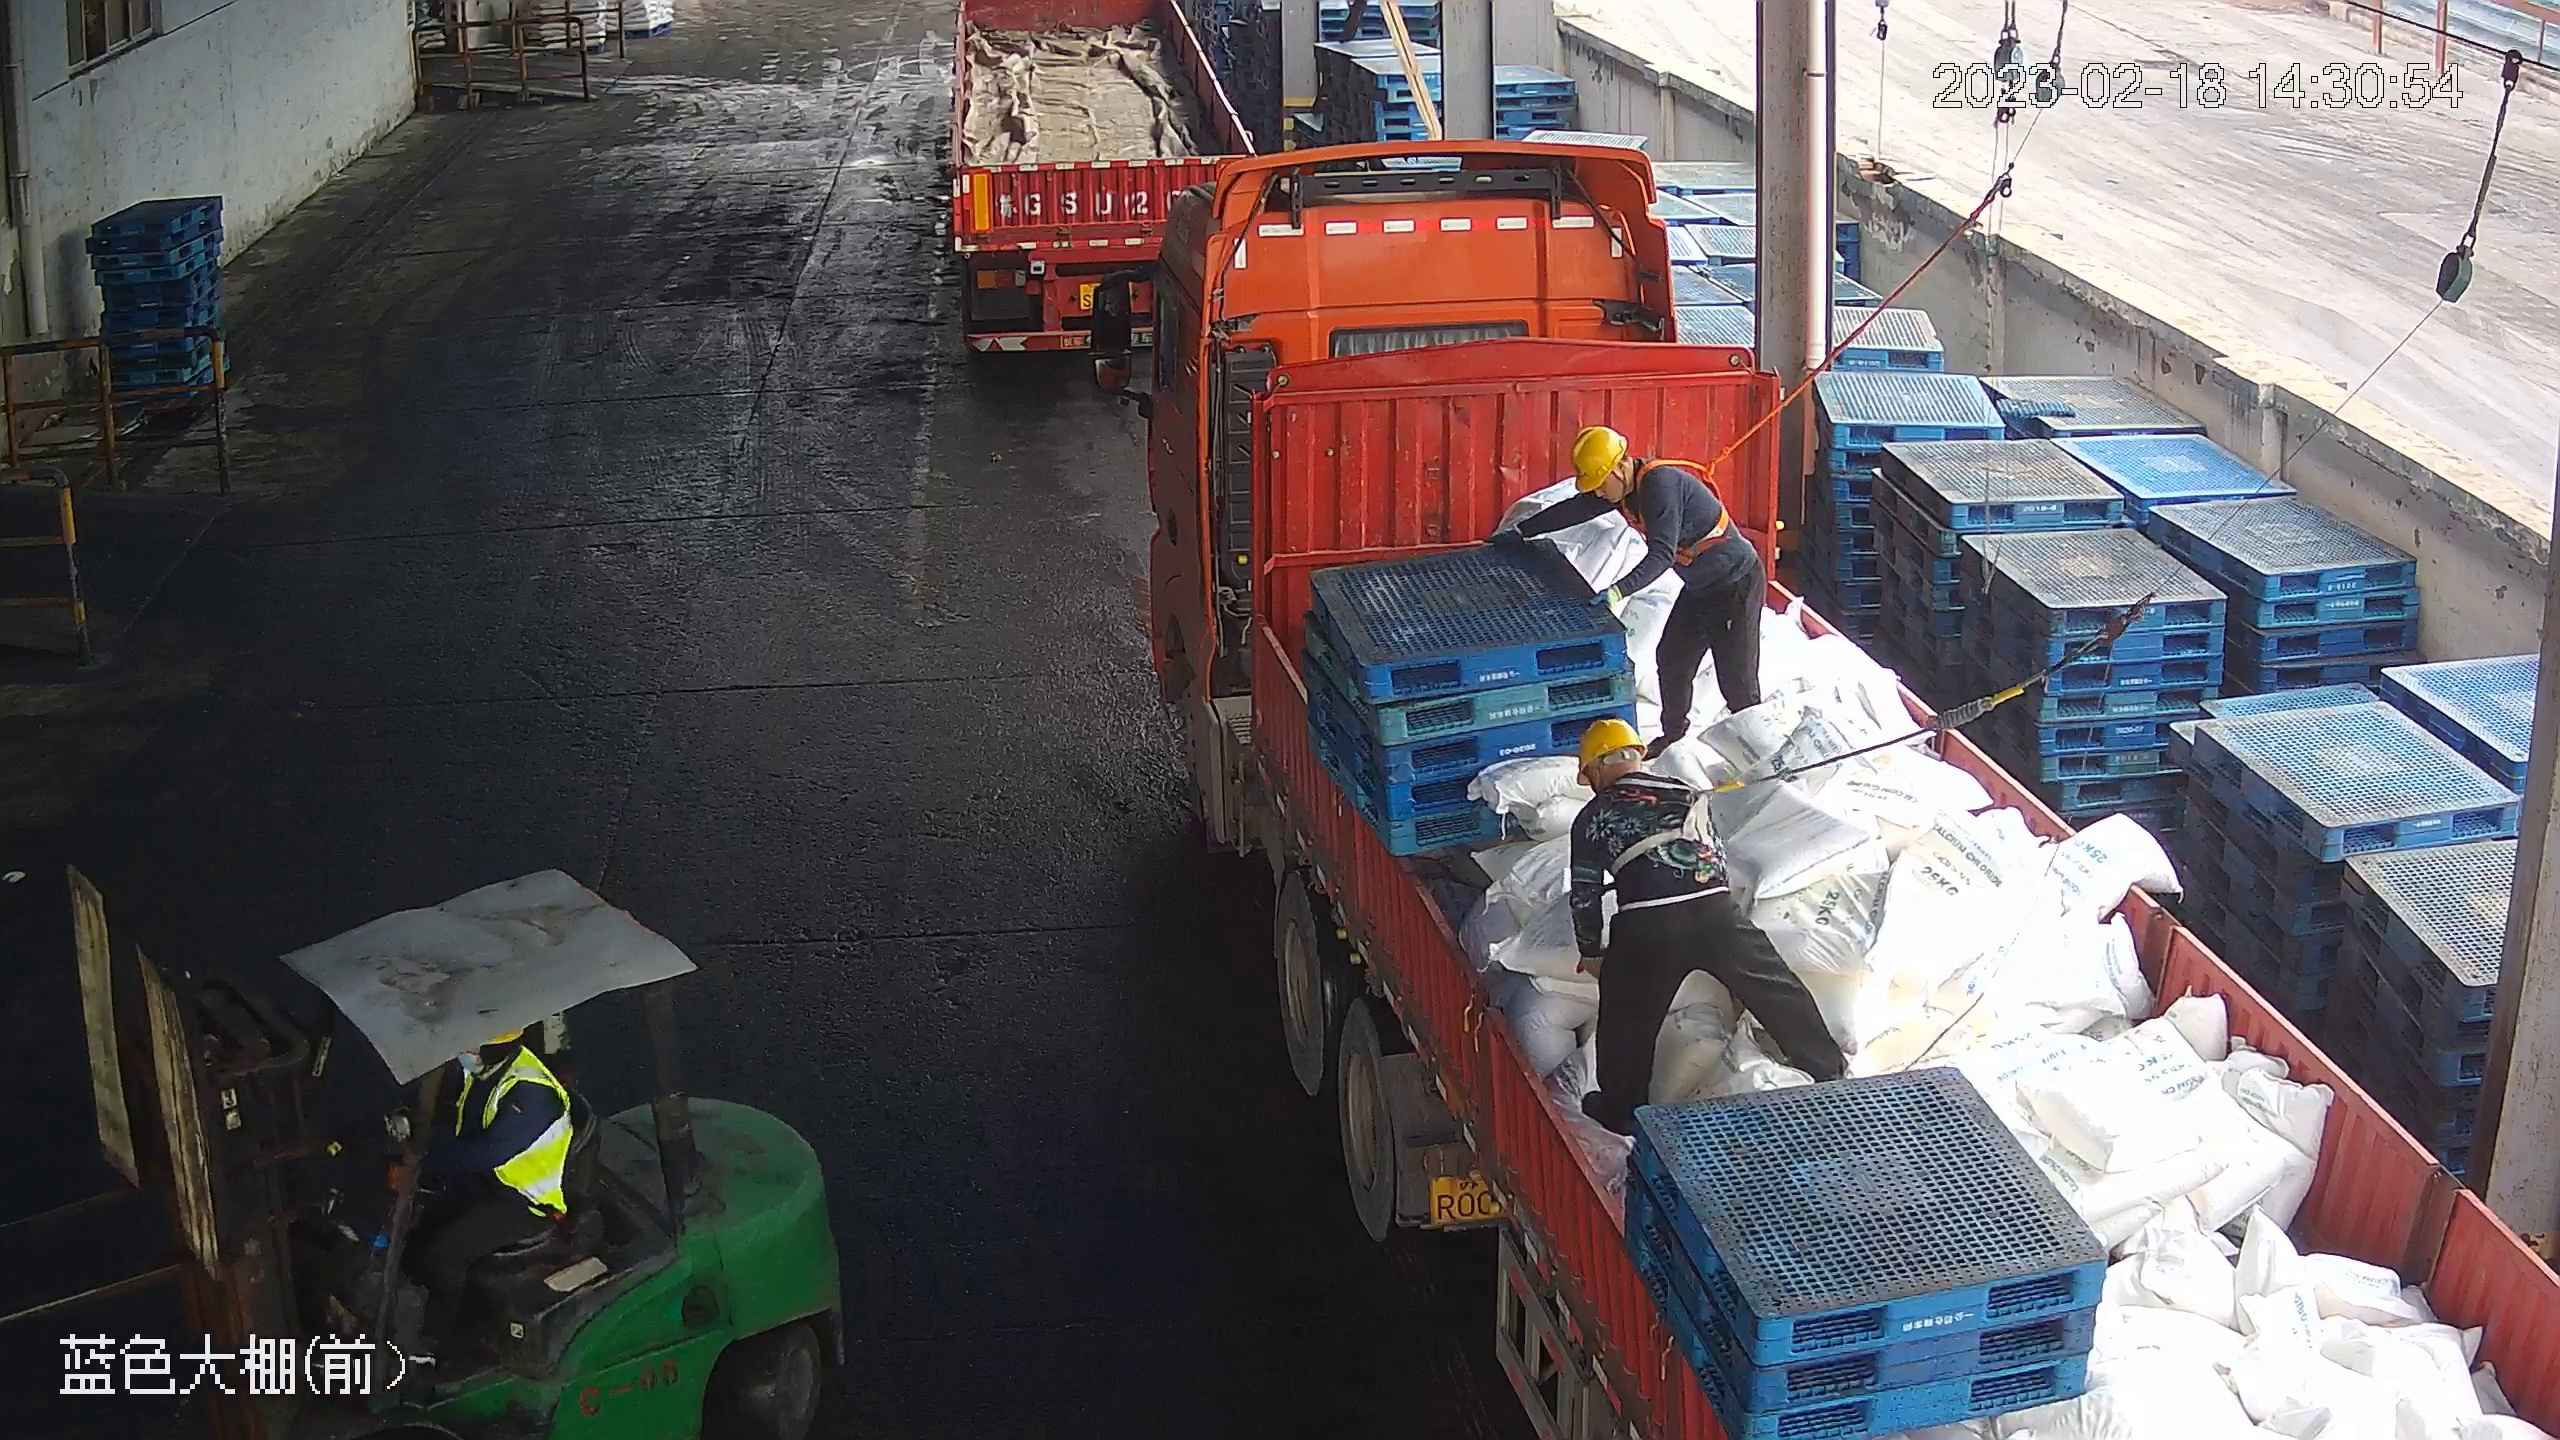belt: (1604, 769, 1743, 903), (1632, 452, 1734, 557)
head: (1567, 716, 1713, 839), (1563, 425, 1699, 522), (441, 1022, 567, 1126)
helmet: (1574, 715, 1648, 777), (1569, 423, 1630, 495)
people: (1561, 713, 1847, 1126), (1544, 421, 1772, 748), (375, 1022, 575, 1346)
truck: (1098, 140, 2554, 1439), (932, 1, 1269, 370)
